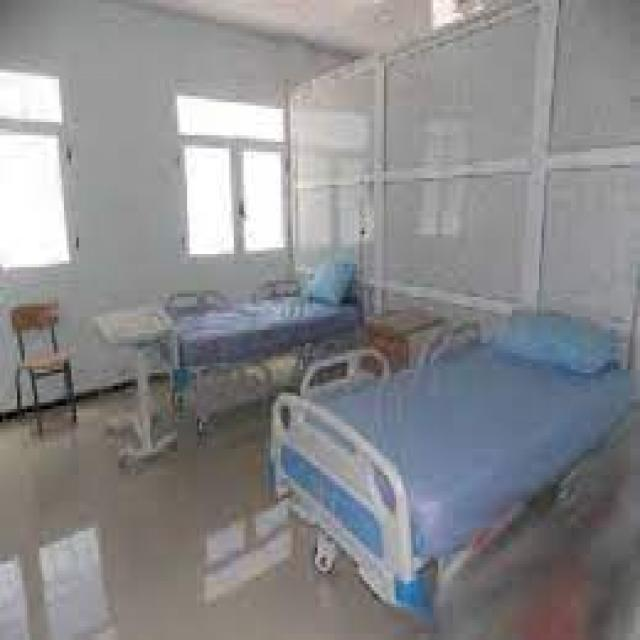bed: (300, 330, 612, 573), (160, 257, 397, 382)
chair: (14, 300, 82, 432)
window: (177, 75, 293, 252), (0, 61, 78, 269)
